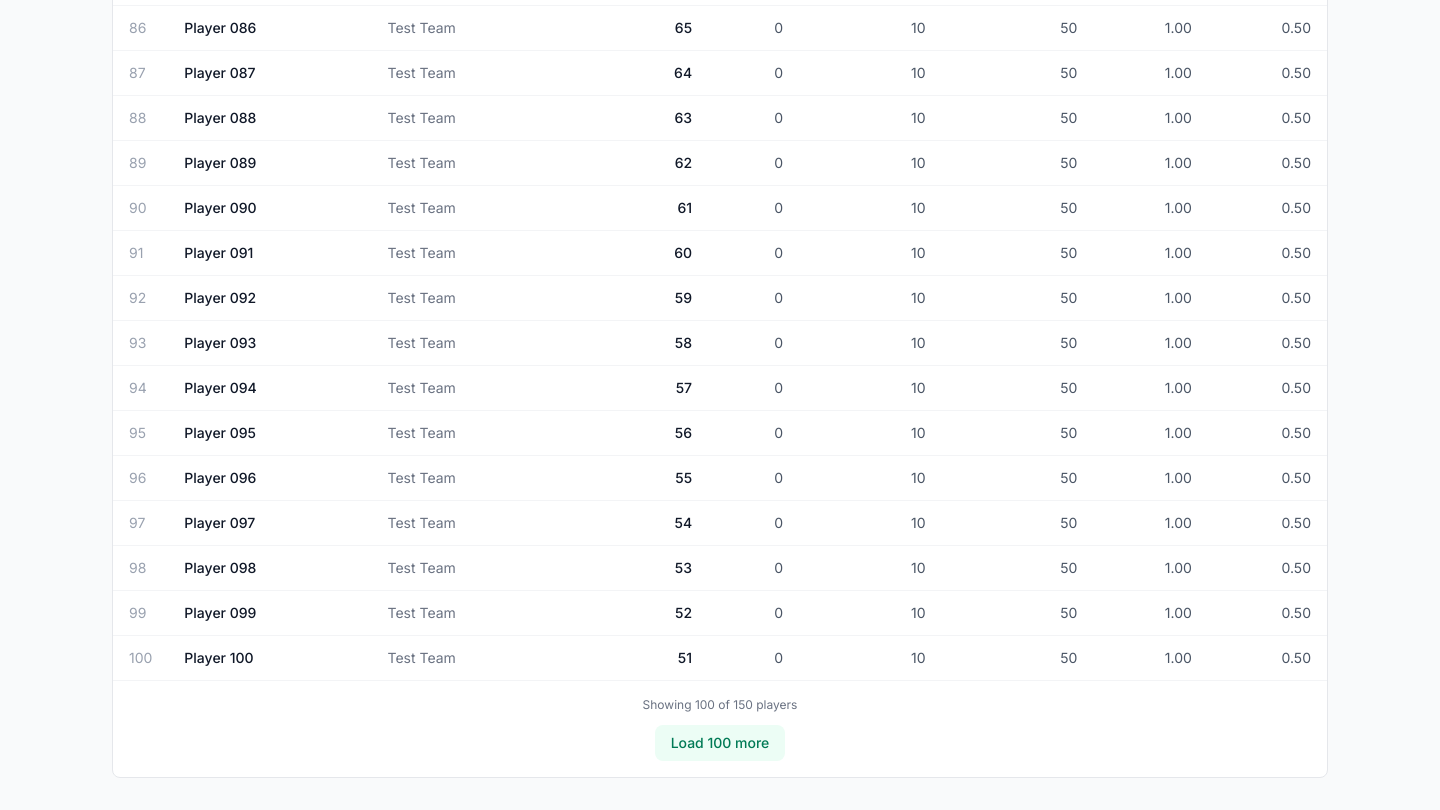
Scenario: players page › paginates players with Load 100 more button
This screenshot has width=1440, height=810.
(page scrolled)
Expected: the text "Showing 100 of 150 players" is shown, [642,697,797,713]
Click the button "Load 100 more". click: [720, 743]
box: [655,725,785,761]
(page scrolled)
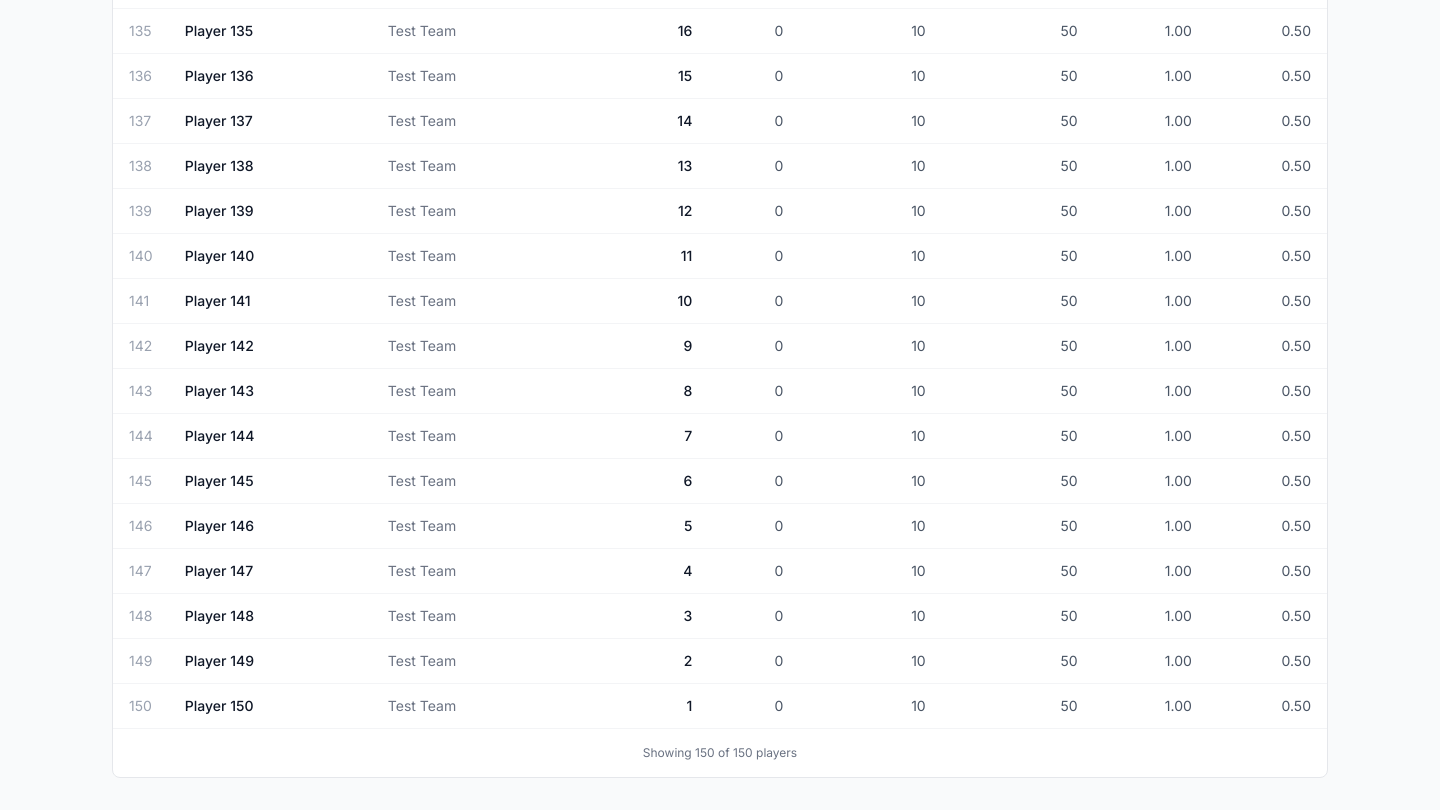
Expected: the text "Showing 150 of 150 players" is shown, [643,745,797,761]
Expected: the button "Load 100 more" is gone
